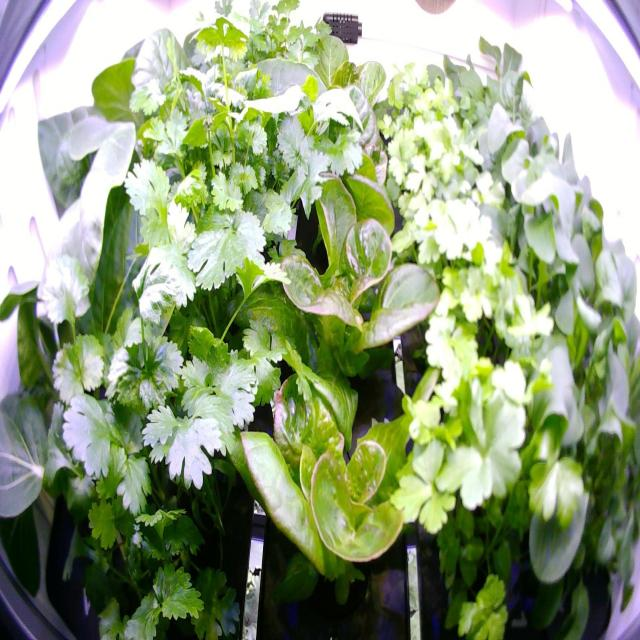Ready: (237, 154, 453, 454), (217, 347, 458, 610), (260, 16, 399, 189)
